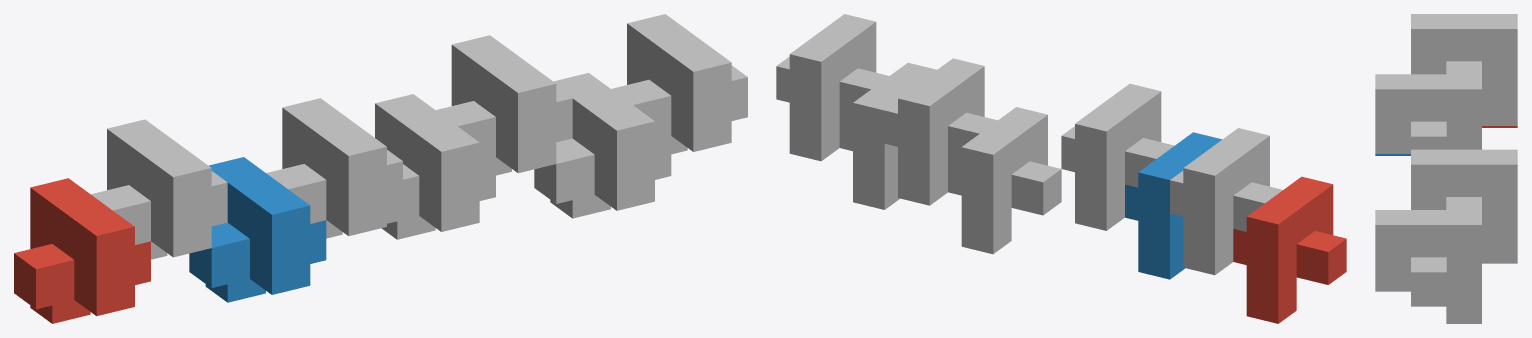
Rendered from tiling.obj.
The picture shows the model from 3 angles, left to right: view 1: azimuth 30°, elevation 25°; view 2: azimuth 150°, elevation 25°; view 3: azimuth 270°, elevation 25°; orthographic projection. The views are drawn at different scales.
Parts seen in each view (by area): view 1: copy_1_domain_1, copy_1_domain_2, copy_1_domain_6, copy_1_domain_7, copy_1_domain_4, copy_1_domain_8, copy_1_domain_3, copy_1_domain_5; view 2: copy_1_domain_1, copy_1_domain_5, copy_1_domain_8, copy_1_domain_4, copy_1_domain_7, copy_1_domain_3, copy_1_domain_2, copy_1_domain_6; view 3: copy_1_domain_8, copy_1_domain_7, copy_1_domain_3, copy_1_domain_4, copy_1_domain_6.
Boxes of the visible parts, <box> form: copy_1_domain_1: <box>14,178,150,323</box>; copy_1_domain_2: <box>189,157,326,302</box>; copy_1_domain_6: <box>534,73,671,218</box>; copy_1_domain_7: <box>436,35,572,175</box>; copy_1_domain_4: <box>266,98,402,238</box>; copy_1_domain_8: <box>611,14,747,154</box>; copy_1_domain_3: <box>91,119,227,259</box>; copy_1_domain_5: <box>375,94,495,239</box>; copy_1_domain_1: <box>1233,176,1346,323</box>; copy_1_domain_5: <box>948,107,1061,254</box>; copy_1_domain_8: <box>776,14,888,161</box>; copy_1_domain_4: <box>1061,83,1174,230</box>; copy_1_domain_7: <box>884,58,997,205</box>; copy_1_domain_3: <box>1170,128,1282,275</box>; copy_1_domain_2: <box>1125,132,1221,279</box>; copy_1_domain_6: <box>839,62,936,209</box>; copy_1_domain_8: <box>1375,210,1481,321</box>; copy_1_domain_7: <box>1411,149,1517,261</box>; copy_1_domain_3: <box>1411,14,1517,125</box>; copy_1_domain_4: <box>1375,74,1481,153</box>; copy_1_domain_6: <box>1375,289,1481,323</box>.
Bounding box in the file's own units: 18 × 4 × 4.
